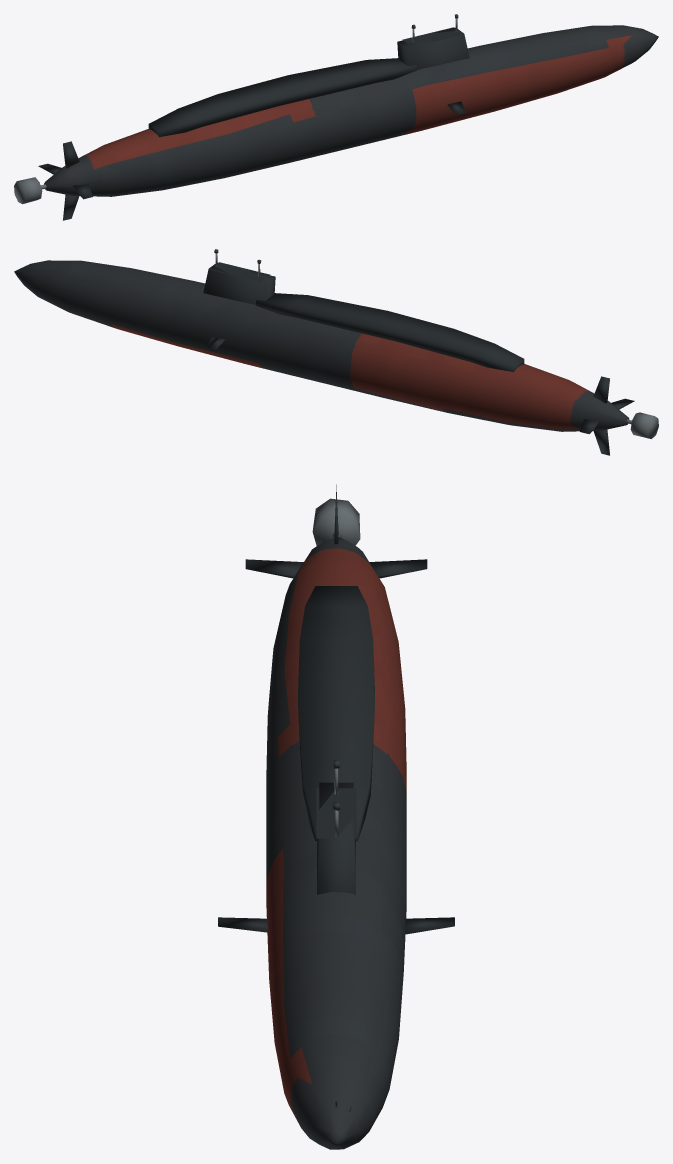
Rendered from IN_SSBN_Arighaat_LOD3.fbx.
The picture shows the model from 3 angles, top to bottom: view 1: azimuth 30°, elevation 25°; view 2: azimuth 150°, elevation 25°; view 3: azimuth 270°, elevation 25°; orthographic projection. The views are drawn at different scales.
Visible parts, largest first — view 1: IN_SSBN_Arighaat_LOD3; view 2: IN_SSBN_Arighaat_LOD3; view 3: IN_SSBN_Arighaat_LOD3.
Part boxes in pixels (bbox=[...]): IN_SSBN_Arighaat_LOD3: bbox=[14, 14, 658, 220]; IN_SSBN_Arighaat_LOD3: bbox=[14, 249, 658, 455]; IN_SSBN_Arighaat_LOD3: bbox=[218, 484, 454, 1149].
Bounding box in the file's own units: 116 × 18.59 × 19.
Materials: 6 (1 with a texture image).
